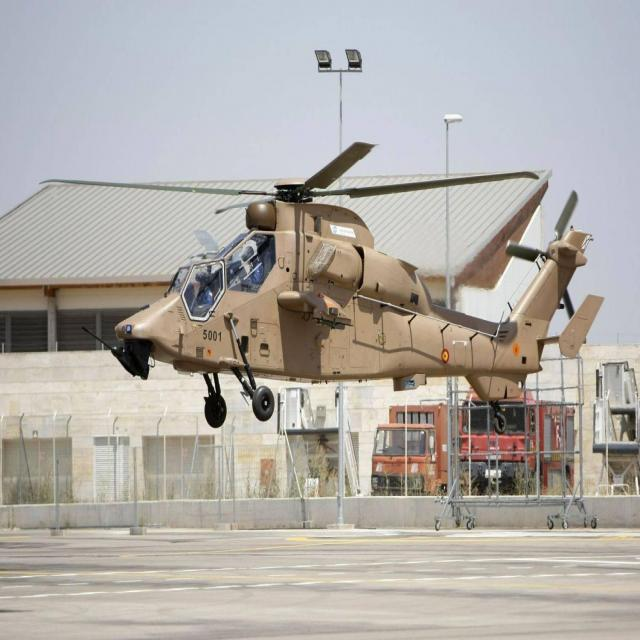MIL_HELO: (37, 142, 606, 429)
